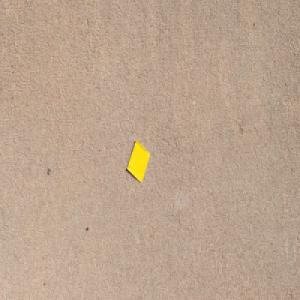PlasticPart: (126, 139, 150, 184)
